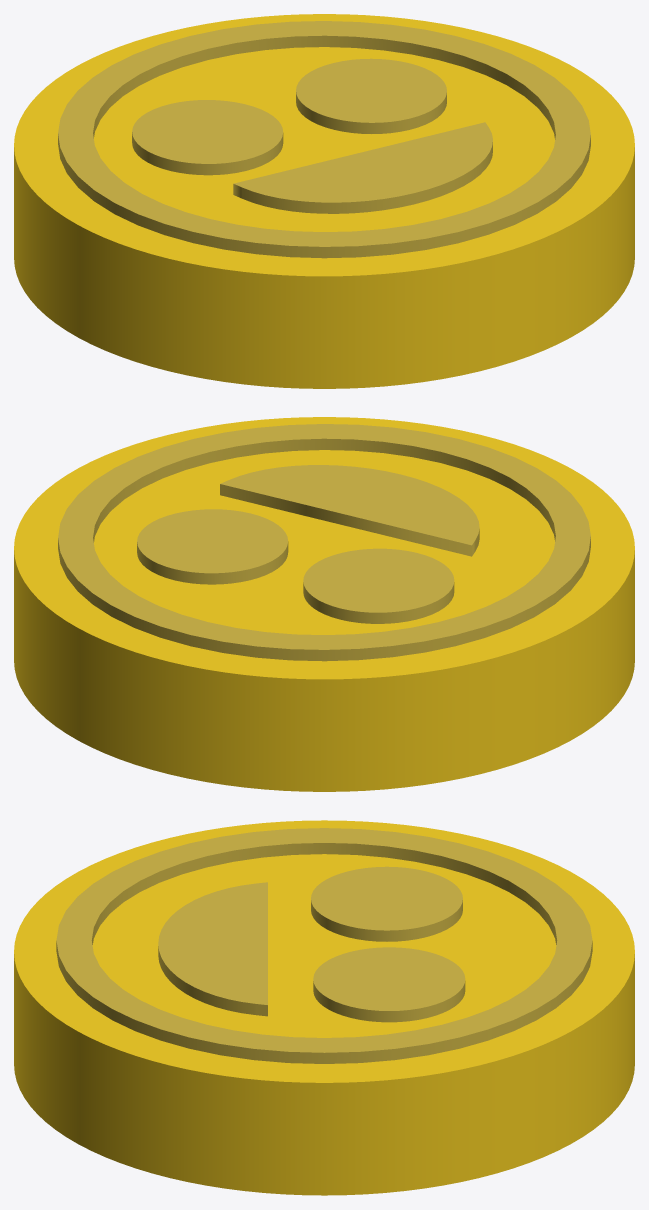
File: Griff_coin.fbx
3 views of the same model, one above another, from view 1: azimuth 30°, elevation 25°; view 2: azimuth 150°, elevation 25°; view 3: azimuth 270°, elevation 25° (orthographic).
Visible parts, largest first — view 1: path1, path16, path8, path9, path5, path7, path6, path4; view 2: path1, path16, path9, path8, path5, path7, path4, path6; view 3: path1, path16, path8, path7, path5, path9, path4, path6.
Boxes of the visible parts, left/top/right/bottom form: path1: left=14, top=14, right=634, bottom=388; path16: left=58, top=21, right=590, bottom=258; path8: left=250, top=128, right=482, bottom=198; path9: left=233, top=122, right=492, bottom=213; path5: left=132, top=100, right=283, bottom=175; path7: left=296, top=58, right=446, bottom=133; path6: left=313, top=66, right=429, bottom=114; path4: left=149, top=107, right=265, bottom=156; path1: left=14, top=417, right=634, bottom=791; path16: left=58, top=424, right=590, bottom=661; path9: left=220, top=465, right=479, bottom=556; path8: left=236, top=469, right=469, bottom=537; path5: left=303, top=548, right=454, bottom=623; path7: left=137, top=509, right=288, bottom=584; path4: left=320, top=556, right=436, bottom=605; path6: left=154, top=516, right=270, bottom=565; path1: left=14, top=820, right=634, bottom=1195; path16: left=56, top=828, right=592, bottom=1063; path8: left=168, top=887, right=257, bottom=999; path7: left=313, top=947, right=465, bottom=1022; path5: left=311, top=866, right=462, bottom=941; path9: left=158, top=882, right=267, bottom=1016; path4: left=328, top=874, right=445, bottom=922; path6: left=331, top=954, right=447, bottom=1003.
Size of the model in its own units: 10 by 2.4 by 10.
